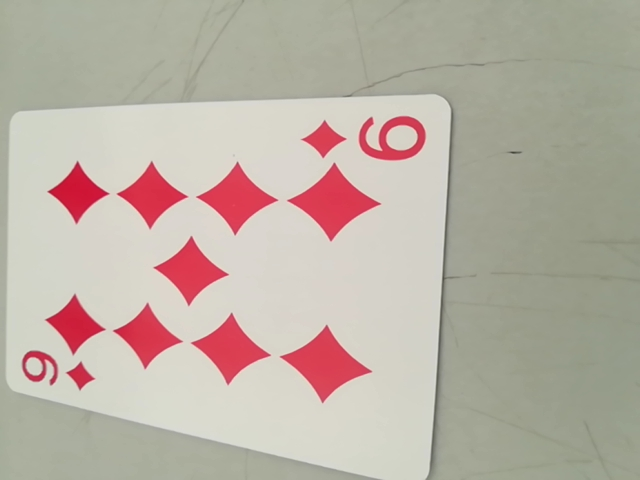fk 9: (299, 107, 429, 170), (10, 346, 102, 401)
